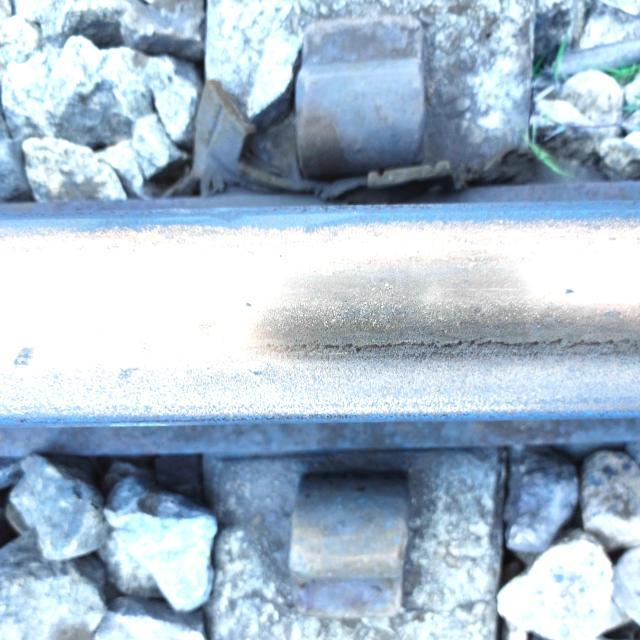Missing Fastener: (243, 463, 488, 636), (268, 10, 467, 207)
